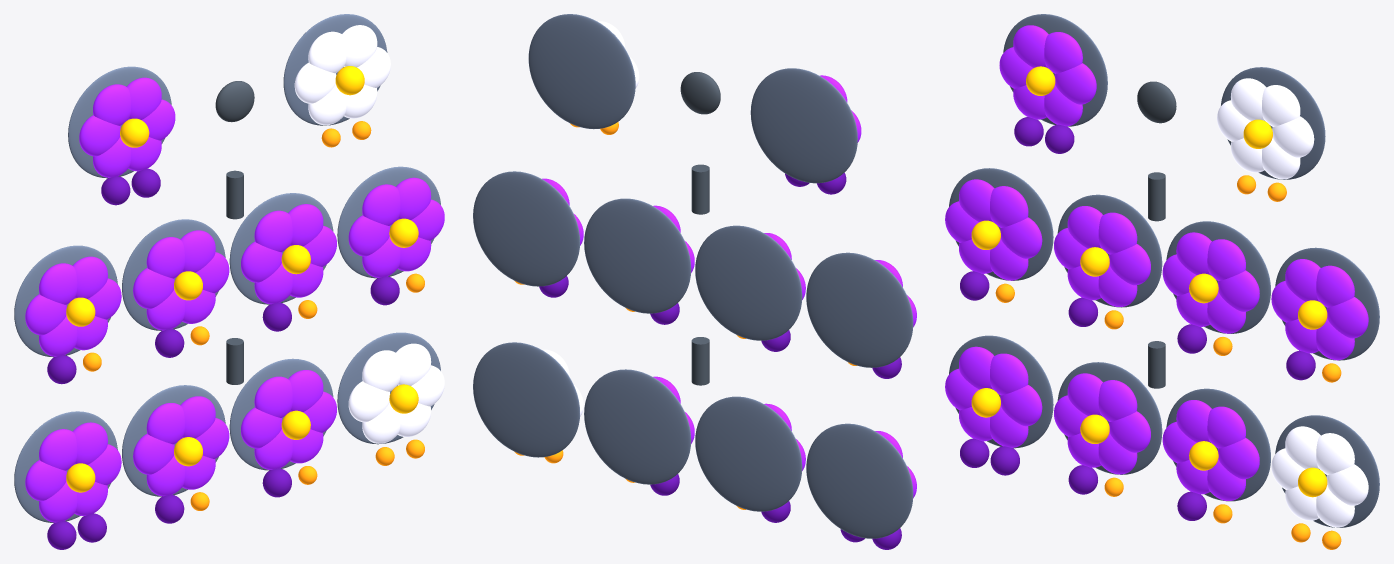
File: mendel.glb
The picture shows the model from 3 angles, left to right: view 1: azimuth 30°, elevation 25°; view 2: azimuth 150°, elevation 25°; view 3: azimuth 330°, elevation 25°; orthographic projection. The views are drawn at different scales.
Parts seen in each view (by area): view 1: f2_3B, parent0B, parent1B, f1_1B, f2_2B, f1_0B, f1_2B, f1_3B, f2_1B, f2_0B, cross, f1_3P2 (+81 smaller); view 2: f2_1B, f2_0B, f2_2B, f1_0B, f1_3B, f2_3B, f1_2B, parent0B, f1_1B, parent1B, cross, arrow1 (+1 smaller); view 3: f2_3B, f1_3B, f1_2B, parent1B, f1_0B, f2_2B, f2_1B, parent0B, f1_1B, f2_0B, cross, f1_1P1 (+81 smaller).
Part boxes in pixels (bbox=[...]): f2_3B: bbox=[337, 332, 440, 444]; parent0B: bbox=[68, 66, 171, 178]; parent1B: bbox=[283, 14, 387, 125]; f1_1B: bbox=[122, 219, 225, 330]; f2_2B: bbox=[229, 358, 333, 470]; f1_0B: bbox=[14, 245, 117, 357]; f1_2B: bbox=[229, 193, 333, 304]; f1_3B: bbox=[337, 166, 440, 278]; f2_1B: bbox=[122, 385, 225, 496]; f2_0B: bbox=[14, 411, 117, 522]; cross: bbox=[215, 81, 254, 122]; f1_3P2: bbox=[362, 184, 400, 225]; f2_1B: bbox=[695, 396, 802, 511]; f2_0B: bbox=[806, 423, 913, 538]; f2_2B: bbox=[584, 369, 691, 484]; f1_0B: bbox=[806, 252, 913, 367]; f1_3B: bbox=[473, 171, 579, 286]; f2_3B: bbox=[473, 342, 579, 457]; f1_2B: bbox=[584, 198, 691, 313]; parent0B: bbox=[750, 68, 857, 183]; f1_1B: bbox=[695, 225, 802, 340]; parent1B: bbox=[528, 14, 635, 129]; cross: bbox=[680, 72, 720, 114]; arrow1: bbox=[691, 164, 709, 214]; f2_3B: bbox=[1275, 415, 1379, 527]; f1_3B: bbox=[1275, 247, 1379, 360]; f1_2B: bbox=[1166, 221, 1270, 333]; parent1B: bbox=[1221, 67, 1325, 179]; f1_0B: bbox=[949, 168, 1053, 280]; f2_2B: bbox=[1166, 388, 1270, 501]; f2_1B: bbox=[1057, 362, 1162, 474]; parent0B: bbox=[1003, 14, 1107, 126]; f1_1B: bbox=[1057, 194, 1162, 307]; f2_0B: bbox=[949, 335, 1053, 448]; cross: bbox=[1137, 81, 1176, 123]; f1_1P1: bbox=[1098, 212, 1137, 254].
Size of what is drawn, in the model's own units: 0.674 by 0.687 by 0.066.
